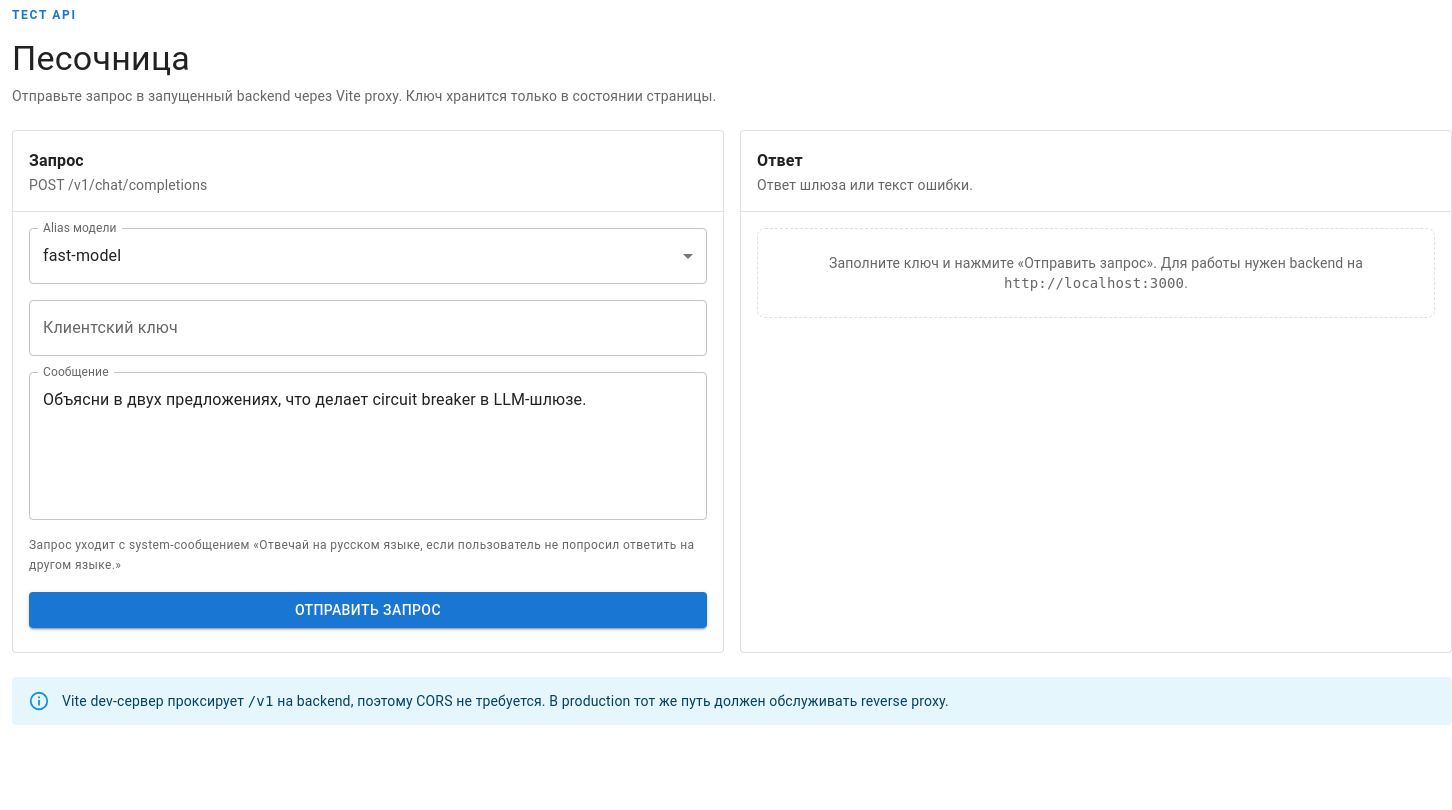
it: PlaygroundPage › requires a client key before sending
What coordinates should you click on to do the following:
click the button "Отправить запрос"
I would click on:
 (368, 610)
Its box is top-left (29, 592), bottom-right (707, 628).
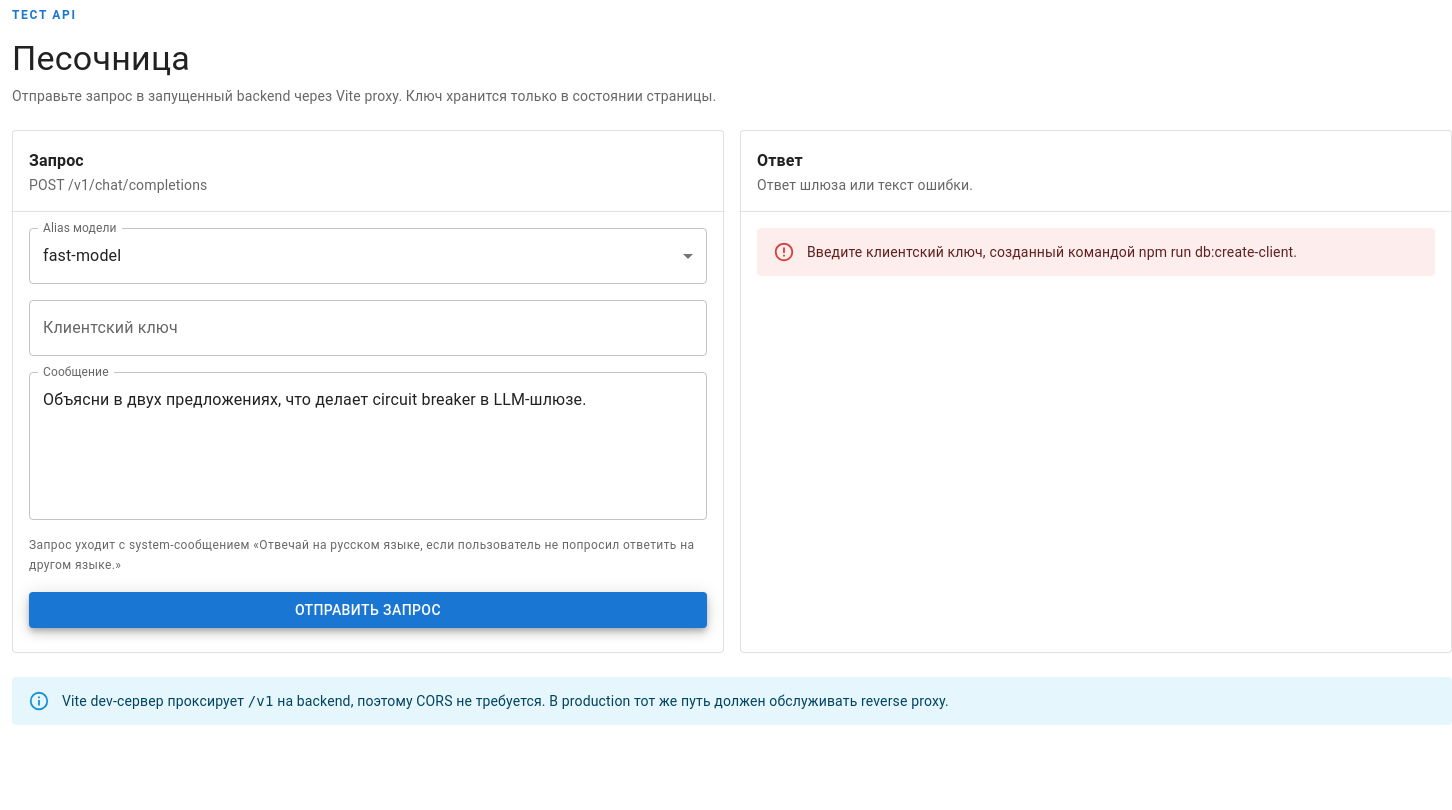
Result: the text "Введите клиентский ключ, созданный командой npm run db:create-client." is shown at top-left (807, 244), bottom-right (1297, 260)
